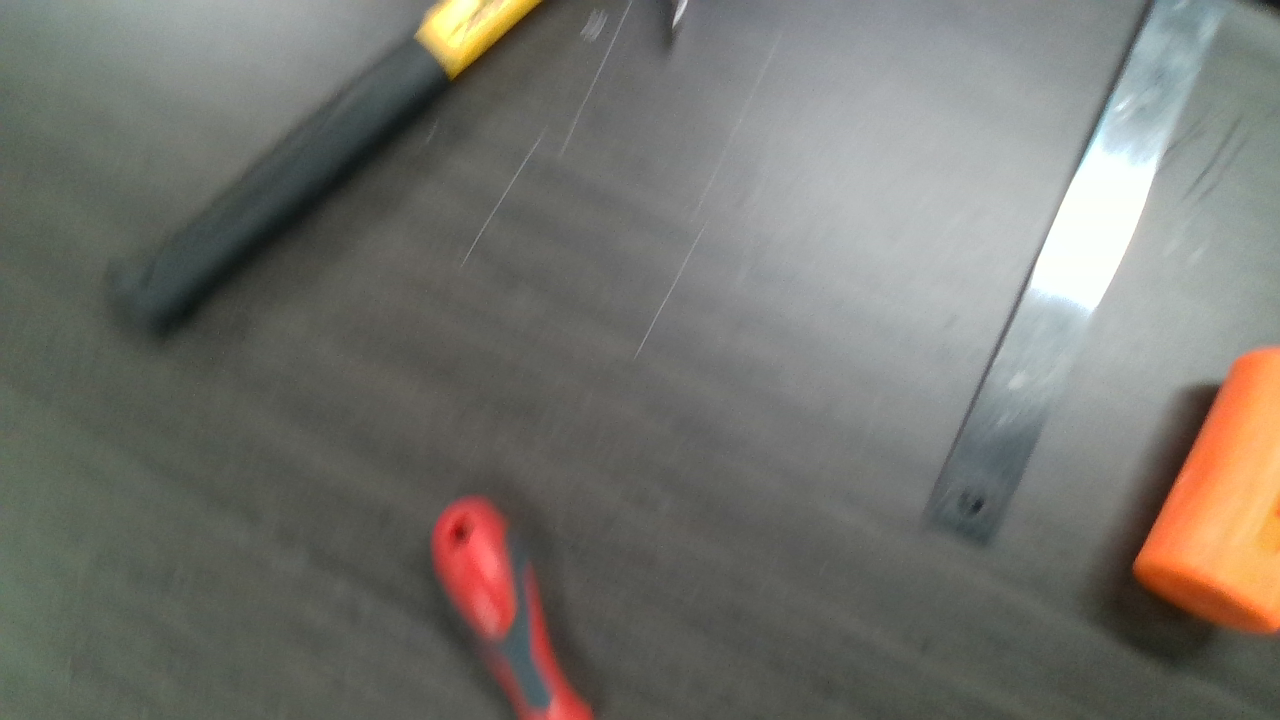Orange Hammer: (1134, 344, 1278, 634)
